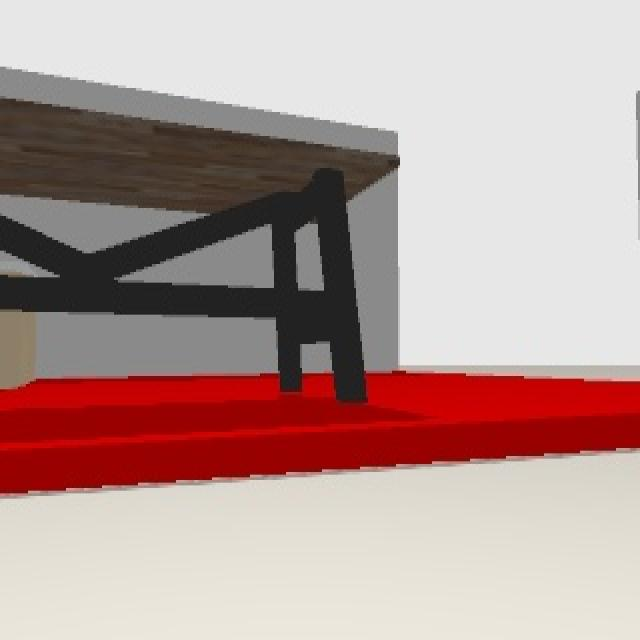dining: (1, 95, 400, 408)
